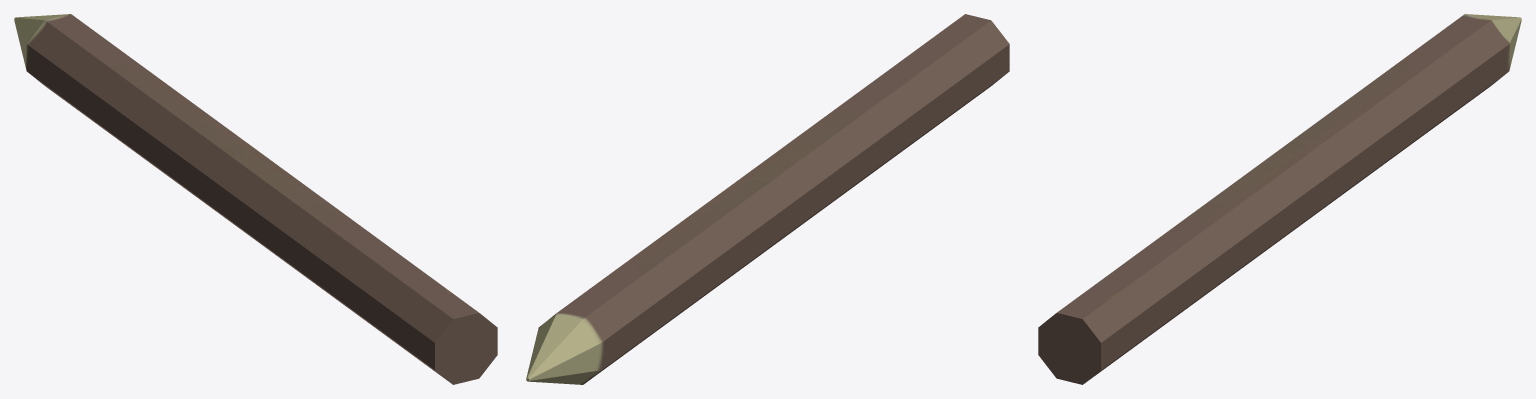
File: CrossbowBolt.glb
The picture shows the model from 3 angles, left to right: view 1: azimuth 30°, elevation 25°; view 2: azimuth 150°, elevation 25°; view 3: azimuth 330°, elevation 25°; orthographic projection.
Visible parts, largest first — view 1: CrossbowBolt; view 2: CrossbowBolt; view 3: CrossbowBolt.
Part boxes in pixels (x1,y1,x2,y2): CrossbowBolt: (14, 14, 497, 384); CrossbowBolt: (526, 14, 1009, 384); CrossbowBolt: (1038, 14, 1521, 384).
Bounding box in the file's own units: 0.3738 × 0.3737 × 4.64.
Materials: 1 (1 with a texture image).
